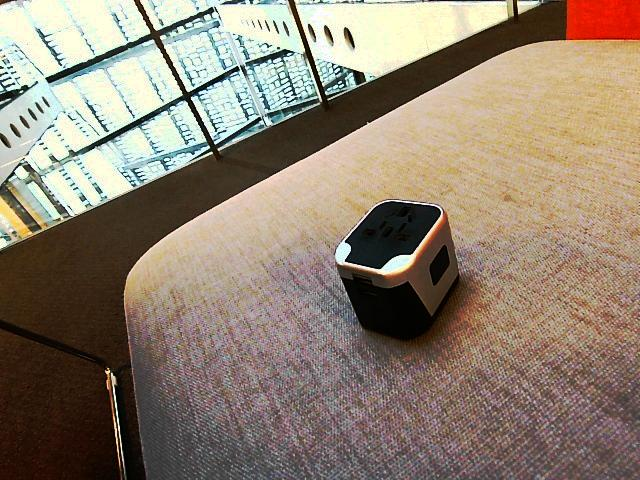adapter: (332, 198, 460, 340)
